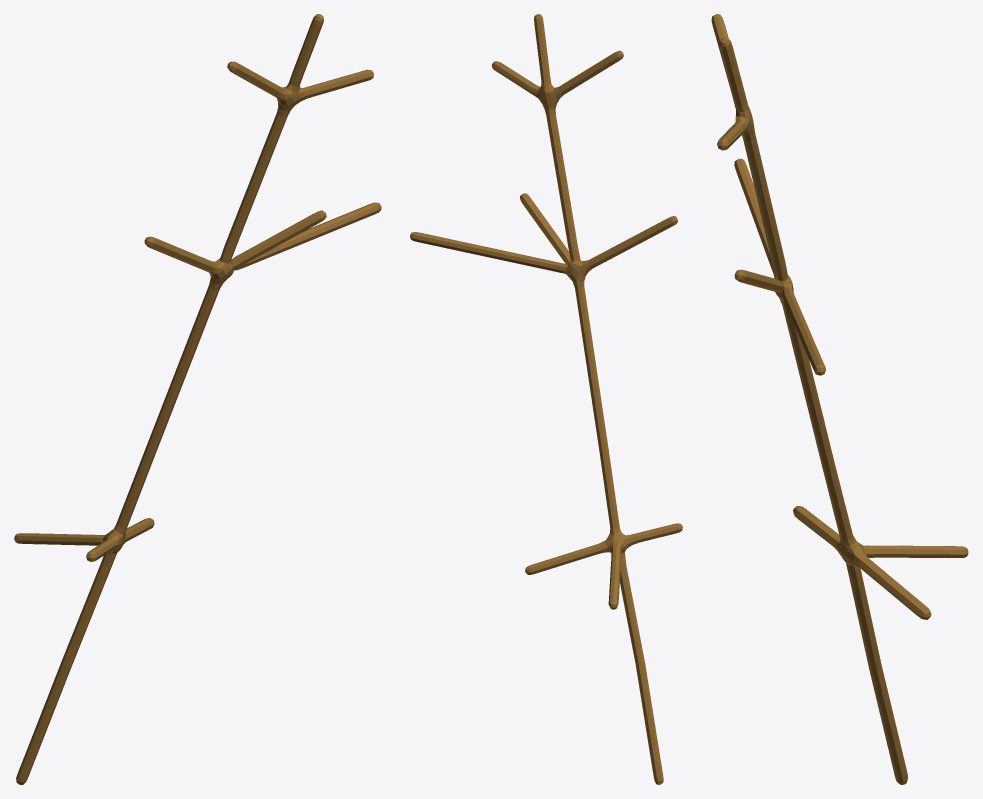
The model's file is Stick3.fbx.
3 renders of one model, left to right at view 1: azimuth 30°, elevation 25°; view 2: azimuth 150°, elevation 25°; view 3: azimuth 270°, elevation 25°, orthographic. The views are drawn at different scales.
Visible parts, largest first — view 1: Vert.002; view 2: Vert.002; view 3: Vert.002.
Boxes of the visible parts, x1,y1,x2,y2 form: Vert.002: [14, 14, 381, 784]; Vert.002: [410, 14, 682, 784]; Vert.002: [711, 14, 968, 784].
Size of the model in its own units: 81.13 by 183 by 49.38.
